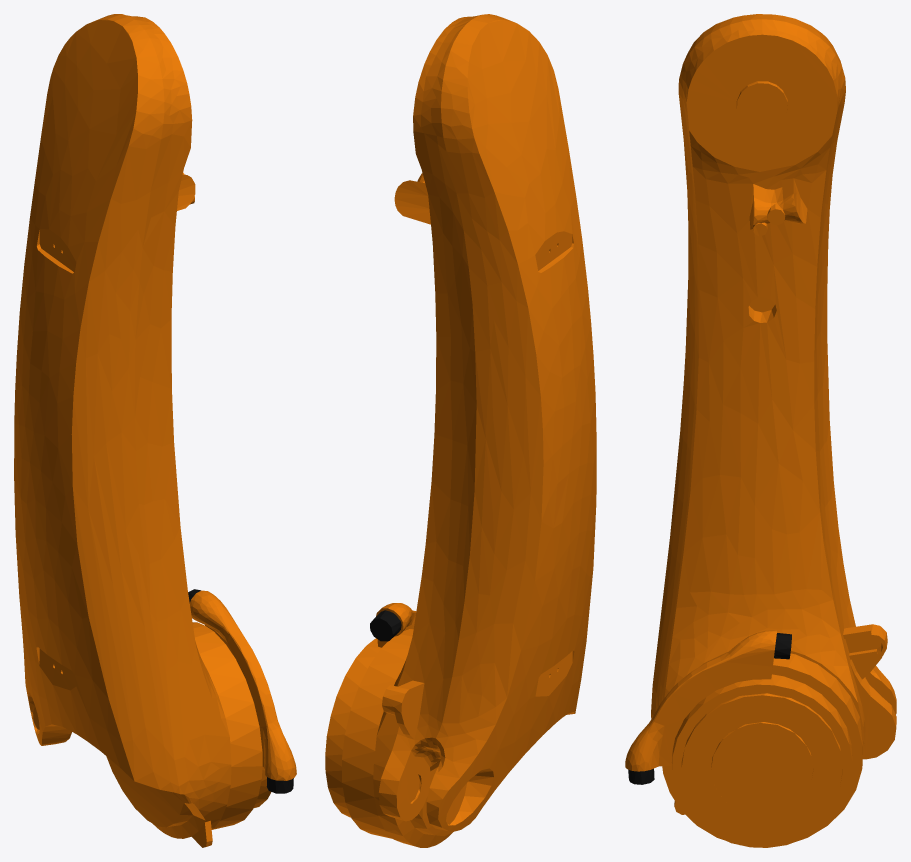
The model's file is KR210_3100_ultra_A2.dae.
3 views of the same model, side by side, from view 1: azimuth 30°, elevation 25°; view 2: azimuth 150°, elevation 25°; view 3: azimuth 270°, elevation 25° (orthographic). The views are drawn at different scales.
Visible parts, largest first — view 1: KR 210 3100 ultra A2; view 2: KR 210 3100 ultra A2; view 3: KR 210 3100 ultra A2.
Boxes of the visible parts, box(x1,y1,x2,y2) form: KR 210 3100 ultra A2: box(14, 14, 296, 847); KR 210 3100 ultra A2: box(325, 14, 596, 847); KR 210 3100 ultra A2: box(625, 14, 896, 847).
Bounding box in the file's own units: 0.4496 × 0.532 × 1.71.
